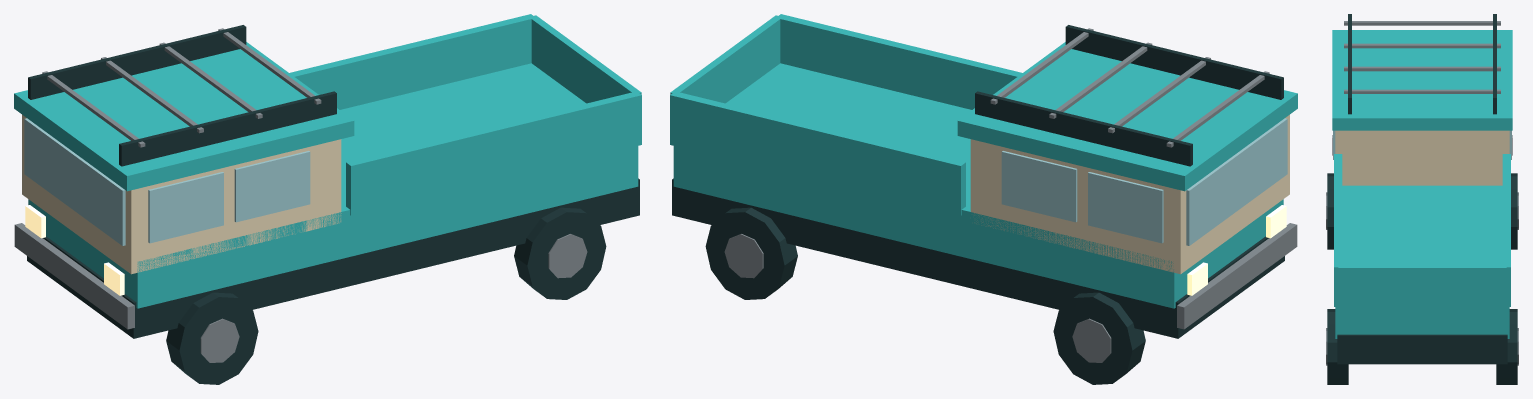
Rendered from utility_truck.fbx.
3 views of the same model, side by side, from view 1: azimuth 30°, elevation 25°; view 2: azimuth 150°, elevation 25°; view 3: azimuth 270°, elevation 25° (orthographic). The views are drawn at different scales.
Parts seen in each view (by area): view 1: utility_truck; view 2: utility_truck; view 3: utility_truck.
Part boxes in pixels (left/top/right/bottom): utility_truck: left=14, top=14, right=641, bottom=384; utility_truck: left=670, top=14, right=1297, bottom=384; utility_truck: left=1326, top=14, right=1518, bottom=384.
Bounding box in the file's own units: 5.2 × 2.4 × 2.1.
